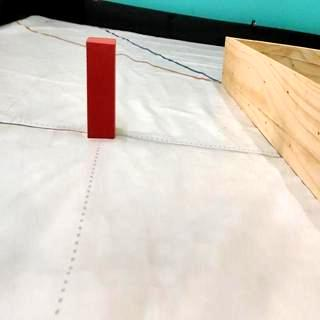redbox: (86, 37, 118, 140)
